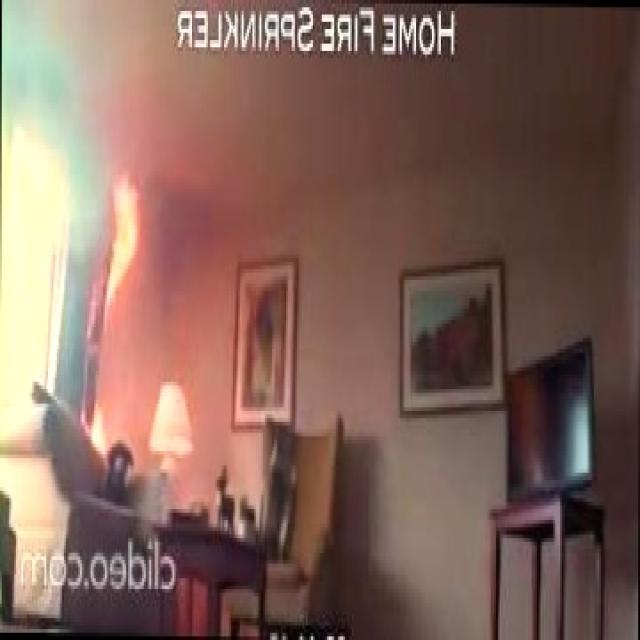fire: (76, 140, 153, 336)
